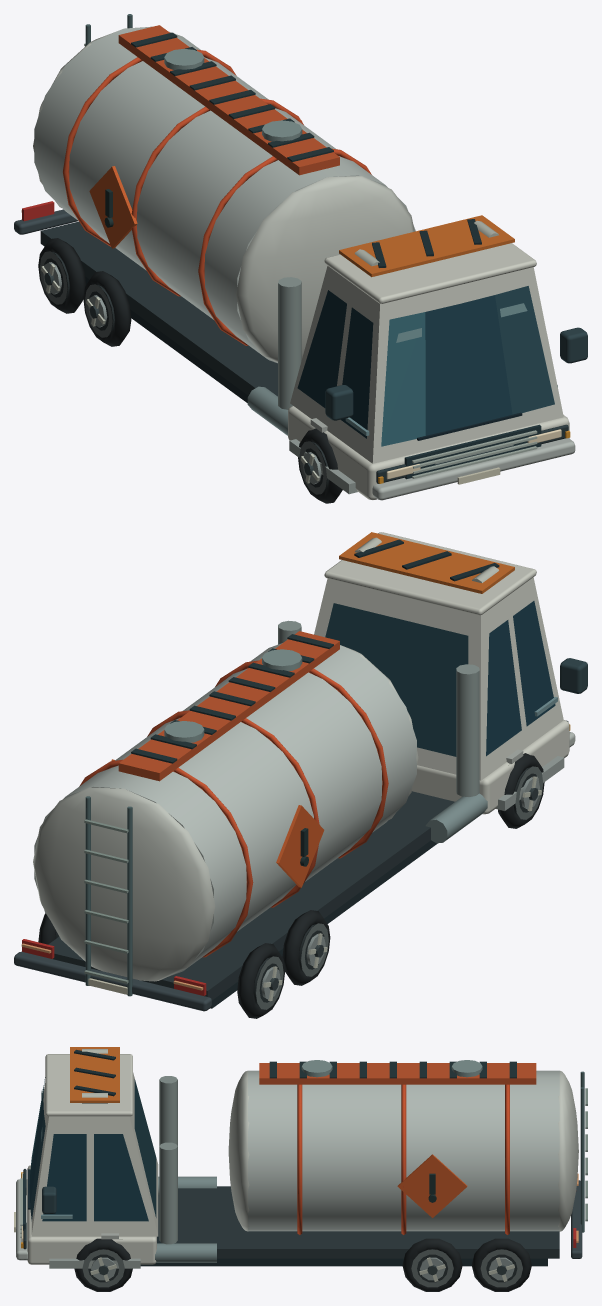
The model's file is tanker.glb.
3 views of the same model, one above another, from view 1: azimuth 30°, elevation 25°; view 2: azimuth 150°, elevation 25°; view 3: azimuth 270°, elevation 25° (orthographic). The views are drawn at different scales.
Visible parts, largest first — view 1: tanker_body; view 2: tanker_body; view 3: tanker_body.
Part boxes in pixels (x1,y1,x2,y2): tanker_body: (14,14,587,503); tanker_body: (14,532,587,1018); tanker_body: (14,1047,587,1291).
Bounding box in the file's own units: 2.95 × 2.7 × 7.46.
